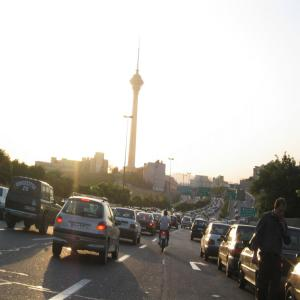Vehicle-registration-plate: (72, 223, 91, 231), (25, 206, 37, 212)
